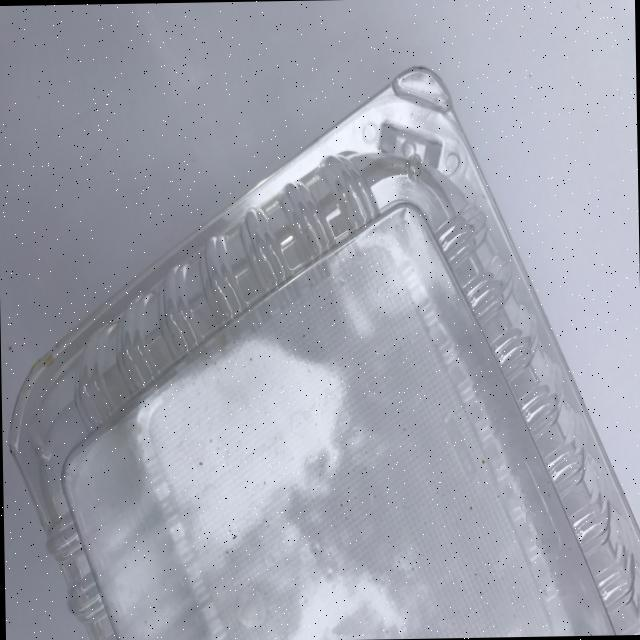plastic: (1, 61, 640, 640)
